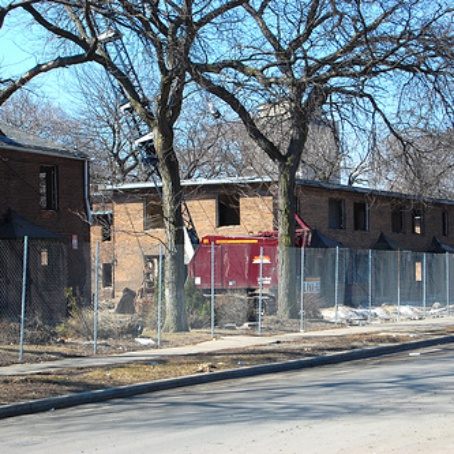building: (111, 179, 454, 304), (1, 132, 95, 324)
sidewalk: (1, 309, 439, 411)
street: (43, 347, 454, 449)
tree: (25, 1, 210, 360), (236, 1, 454, 292)
